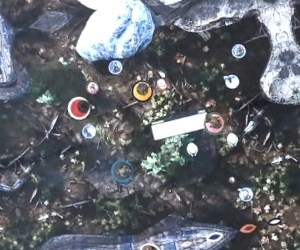brown_turquoise: (107, 159, 135, 186)
pink_green: (201, 109, 229, 137)
red: (63, 93, 91, 121)
yellow_night_blue: (127, 74, 155, 102)
